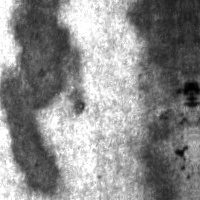patches: (0, 0, 81, 195), (131, 0, 194, 120), (136, 112, 180, 195)
